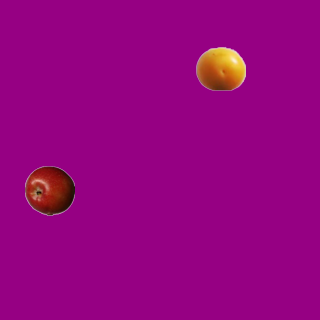Apple Braeburn: (24, 165, 74, 215)
Cherry Wax Yellow: (195, 43, 245, 93)
